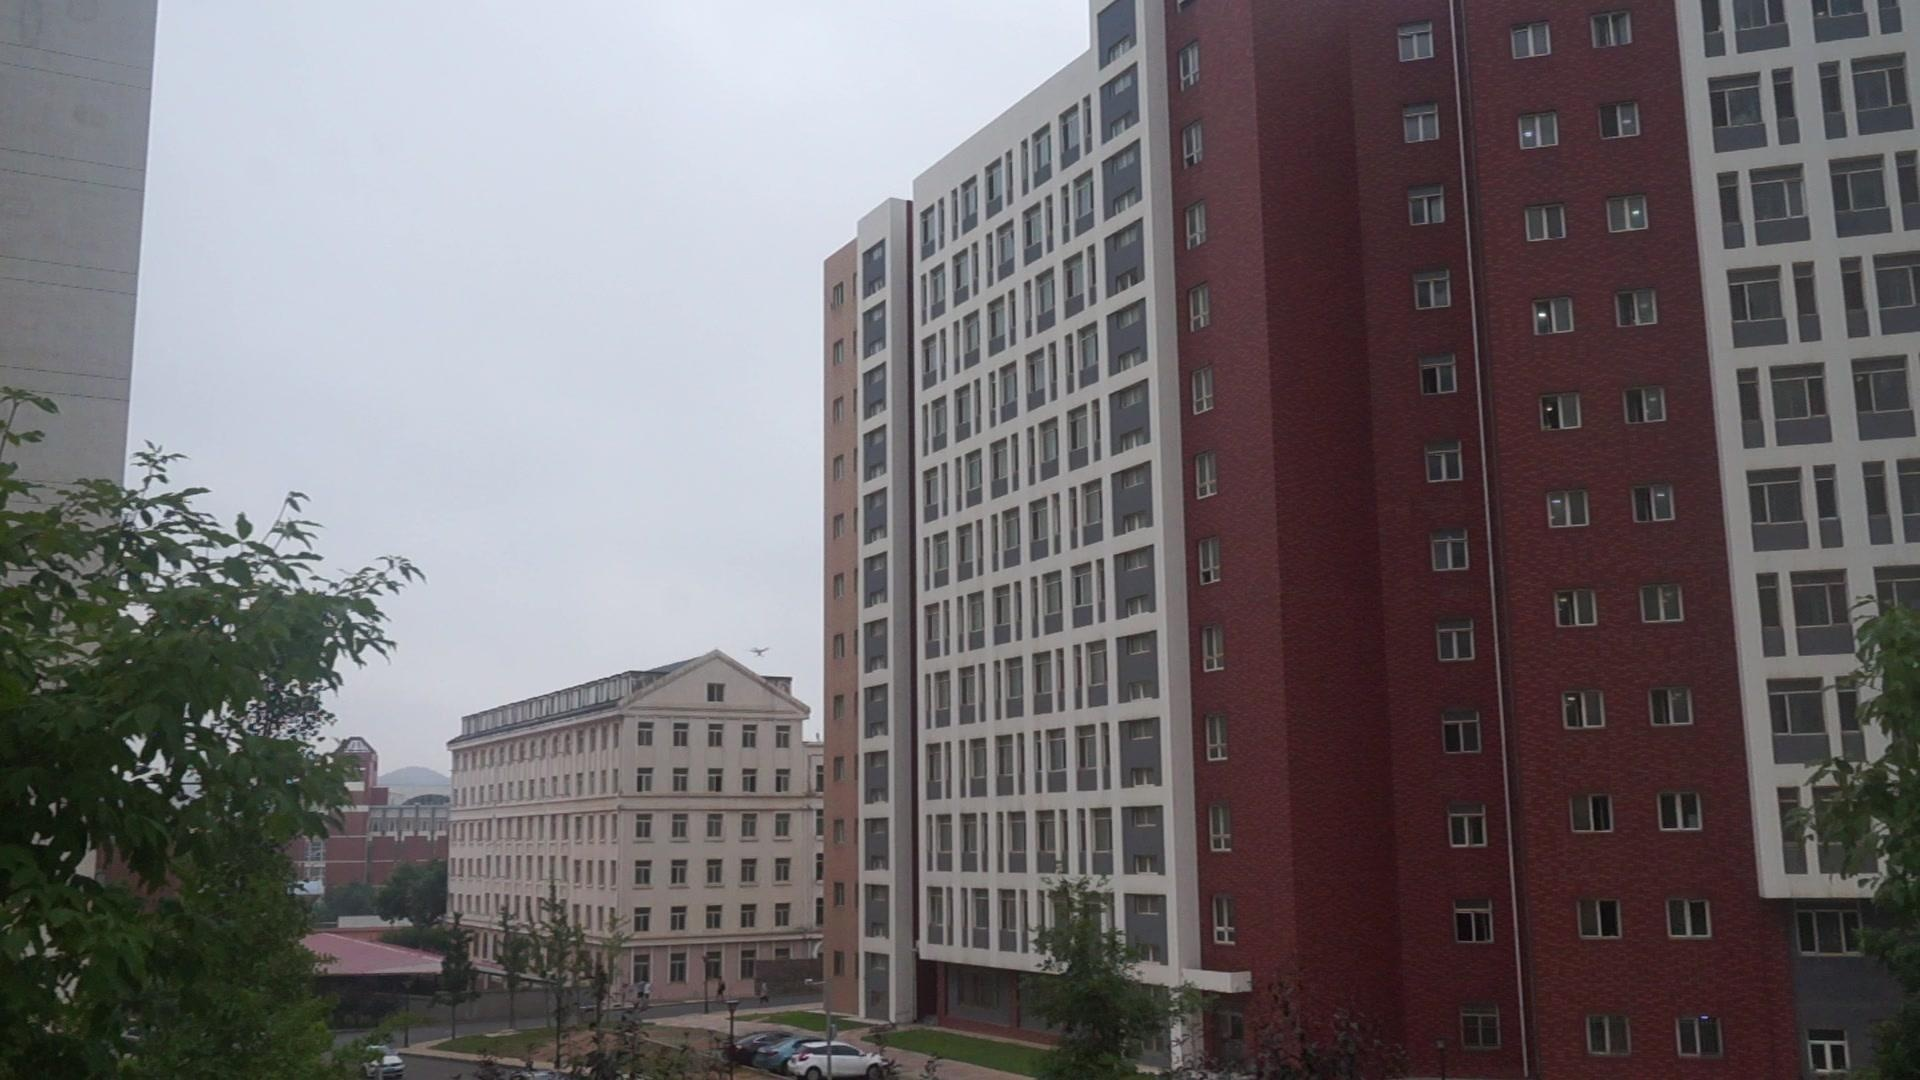UAV: (750, 647, 770, 658)
